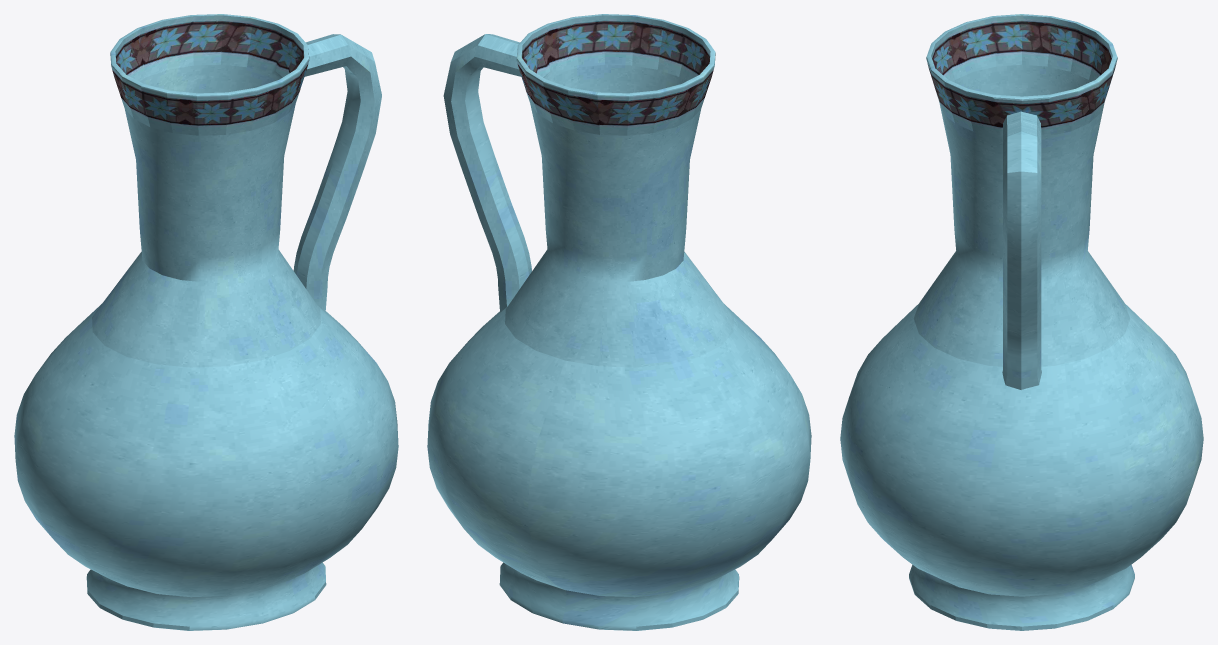
Rendered from Kooze2.fbx.
3 renders of one model, left to right at view 1: azimuth 30°, elevation 25°; view 2: azimuth 150°, elevation 25°; view 3: azimuth 270°, elevation 25°, orthographic.
Visible parts, largest first — view 1: Kooze3; view 2: Kooze3; view 3: Kooze3.
Part boxes in pixels (box(x1,y1,x2,y2)): Kooze3: box(14, 14, 398, 630); Kooze3: box(427, 14, 811, 630); Kooze3: box(840, 14, 1203, 630).
Size of the model in its own units: 12.37 by 18.14 by 11.35.
